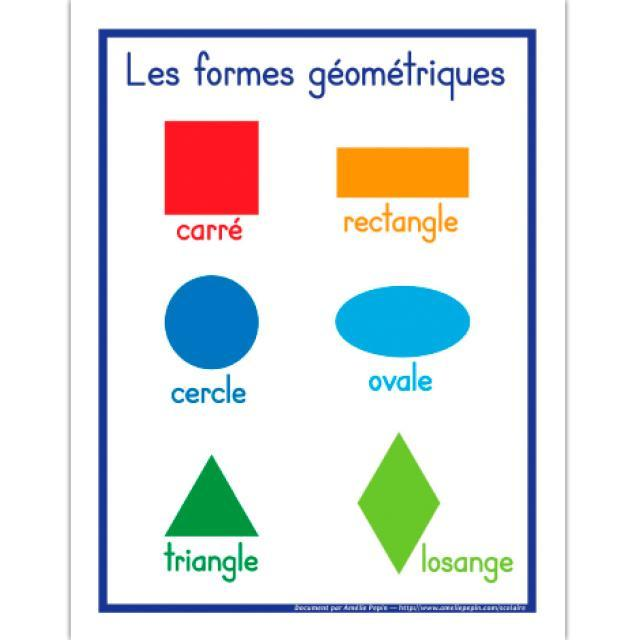BelahKetupat: (331, 416, 481, 580)
Lingkaran: (136, 269, 294, 385), (323, 263, 492, 368)
Persegi: (148, 92, 292, 226), (313, 127, 503, 209)
Segitiga: (127, 442, 298, 553)
